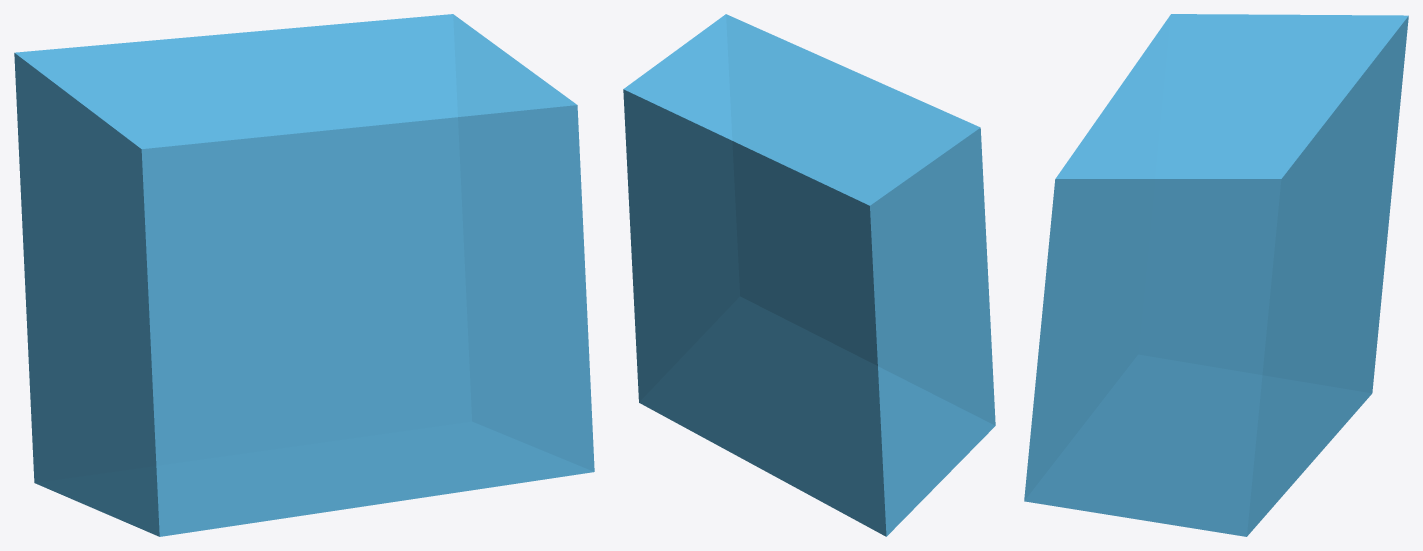
The model's file is Event_420107950_HErechit_49.fbx.
3 views of the same model, side by side, from view 1: azimuth 30°, elevation 25°; view 2: azimuth 150°, elevation 25°; view 3: azimuth 270°, elevation 25° (orthographic). The views are drawn at different scales.
Parts seen in each view (by area): view 1: Model; view 2: Model; view 3: Model.
Boxes of the visible parts, <box> form: Model: <box>14,14,594,536</box>; Model: <box>623,14,995,536</box>; Model: <box>1024,14,1408,536</box>.
Size of the model in its own units: 0.6269 by 0.669 by 0.6173.
